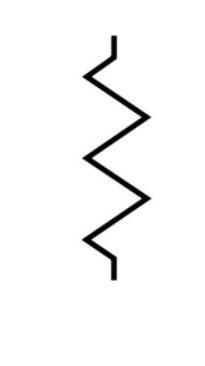resistor: (74, 33, 157, 272)
